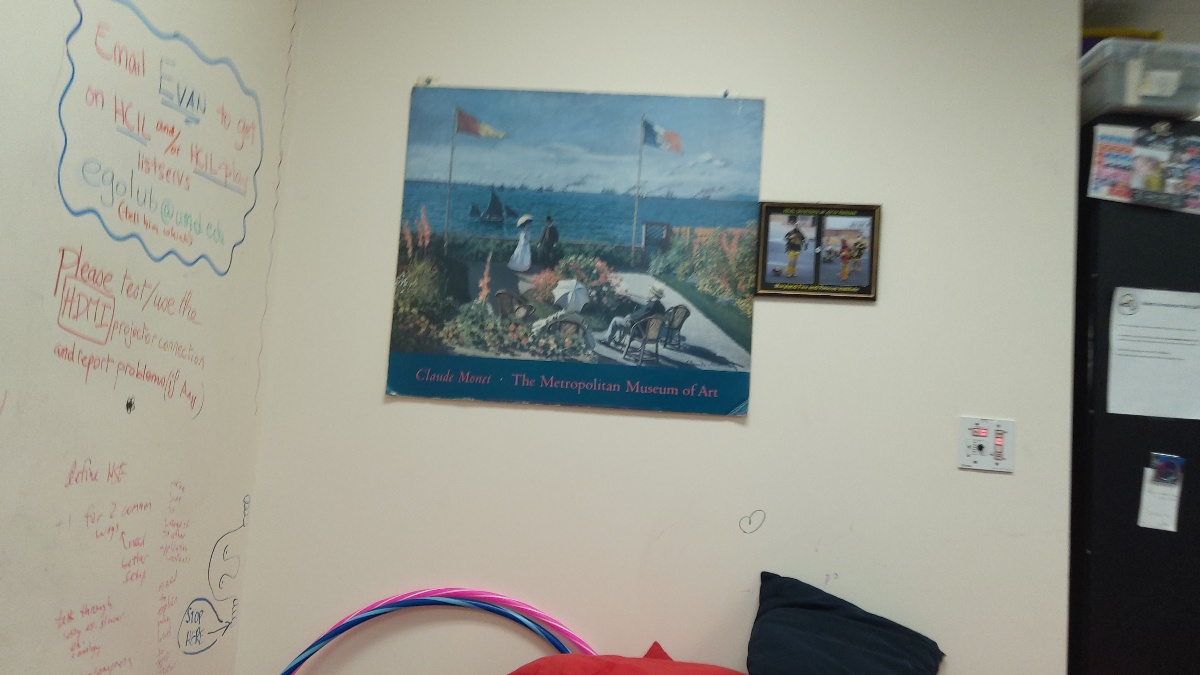poster: (375, 72, 772, 425)
